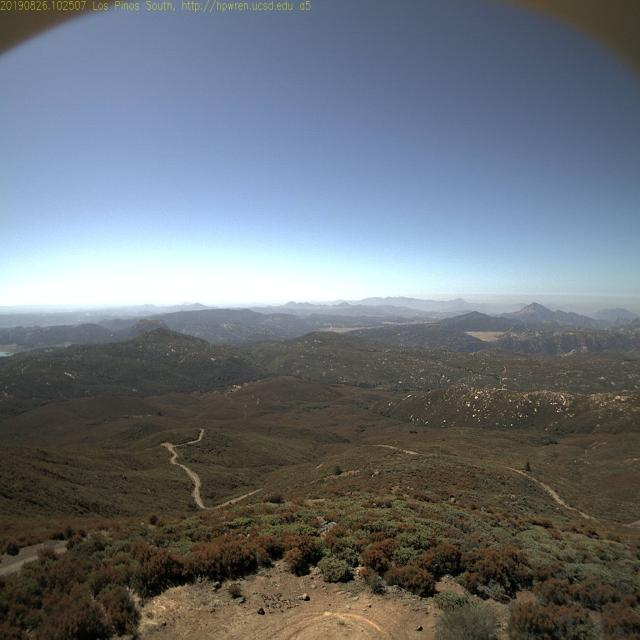smoke: (380, 300, 398, 320)
